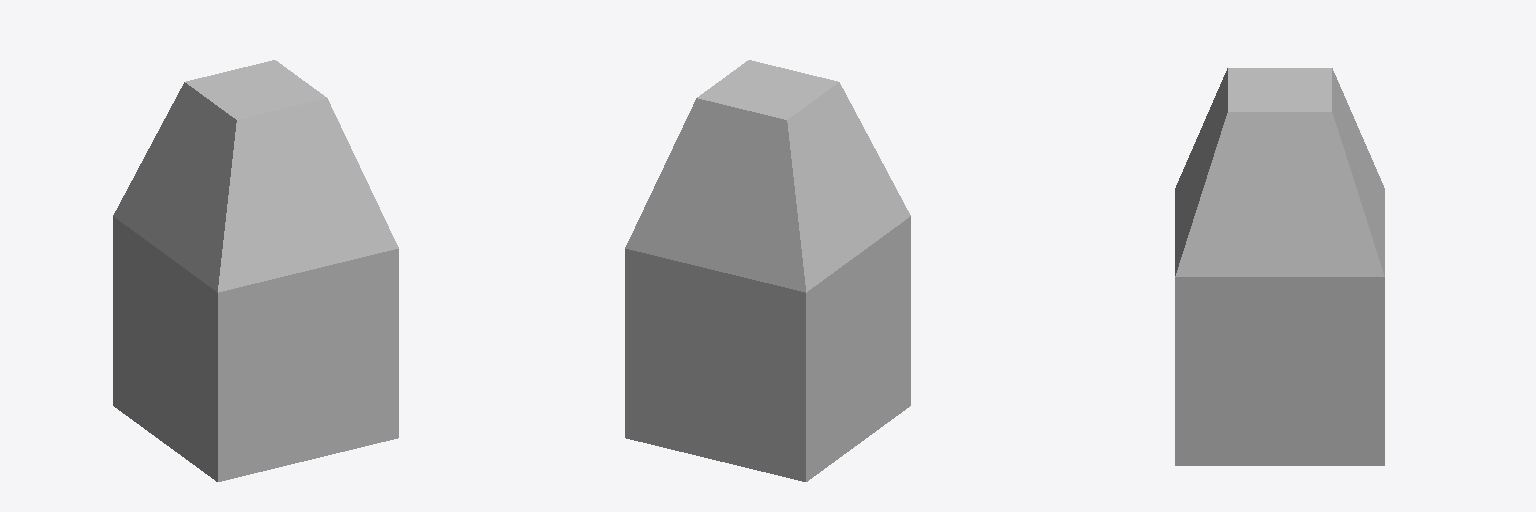
The model's file is bloomery.obj.
The picture shows the model from 3 angles: view 1: azimuth 30°, elevation 25°; view 2: azimuth 150°, elevation 25°; view 3: azimuth 270°, elevation 25°; orthographic projection.
Visible parts, largest first — view 1: bloomery; view 2: bloomery; view 3: bloomery.
Part boxes in pixels (bbox=[...]): bloomery: bbox=[113, 60, 398, 481]; bloomery: bbox=[625, 60, 910, 481]; bloomery: bbox=[1175, 68, 1384, 465].
Bounding box in the file's own units: 1 × 1.75 × 1.